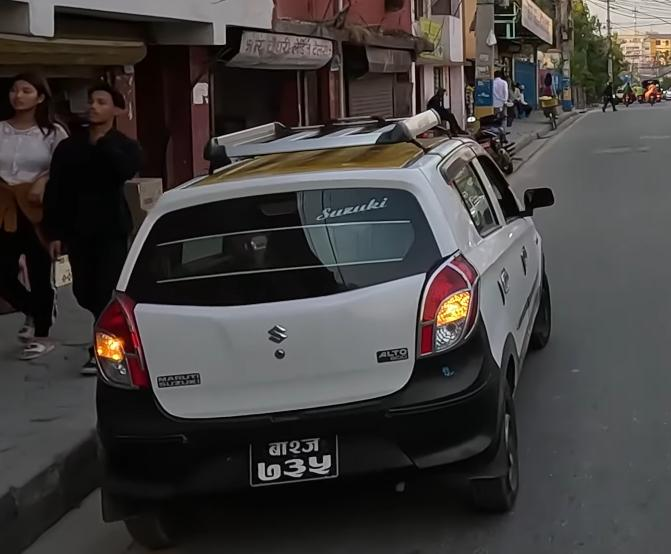bike: (461, 106, 524, 175)
taxi: (82, 107, 562, 540)
